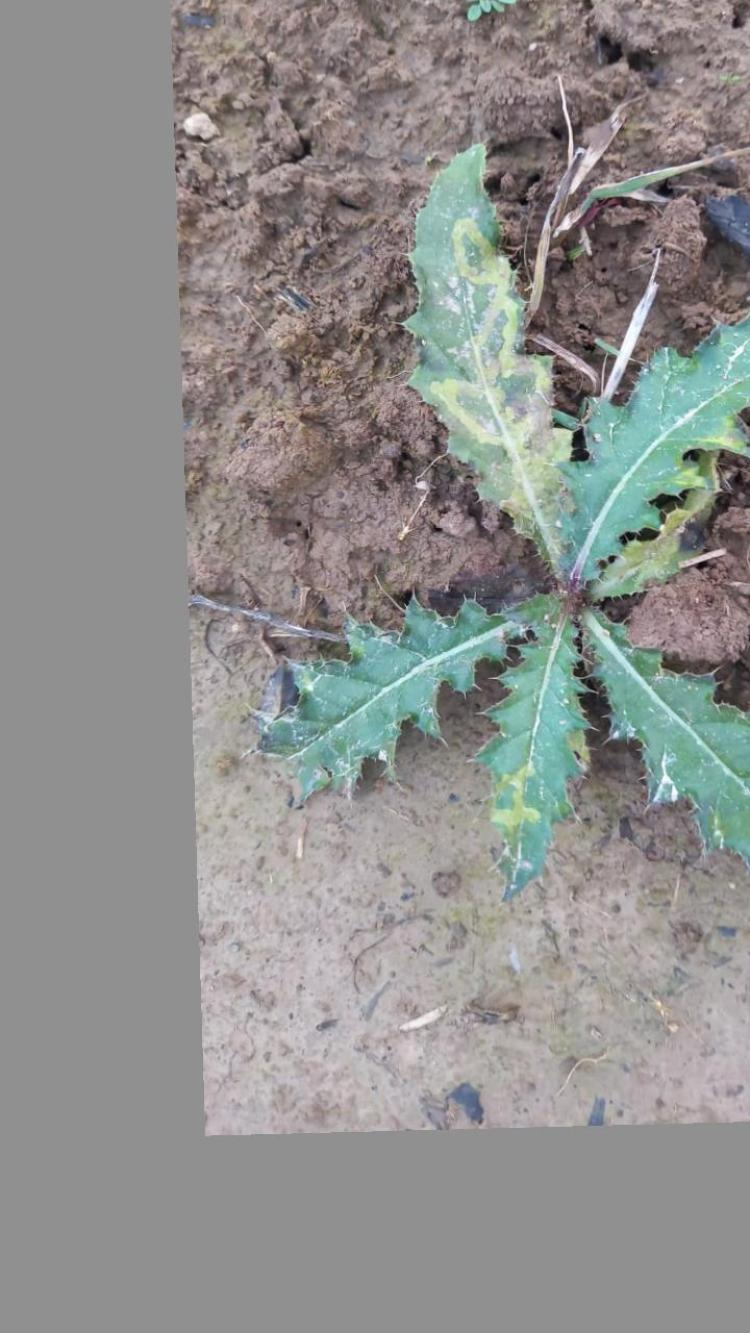osot: (264, 139, 750, 903)
